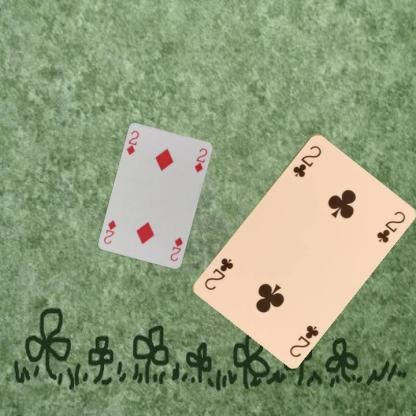2c: (290, 142, 323, 179), (287, 322, 320, 359)
2d: (168, 234, 184, 263), (124, 128, 140, 157)
